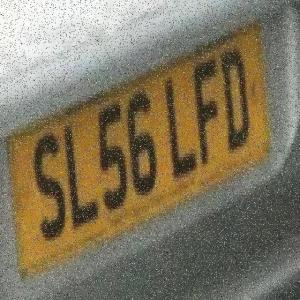Plate: (6, 20, 270, 286)
